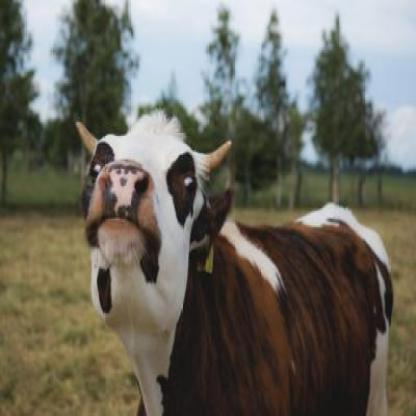lower: (95, 223, 151, 260)
mouth: (87, 160, 162, 266)
upper: (93, 168, 152, 219)
